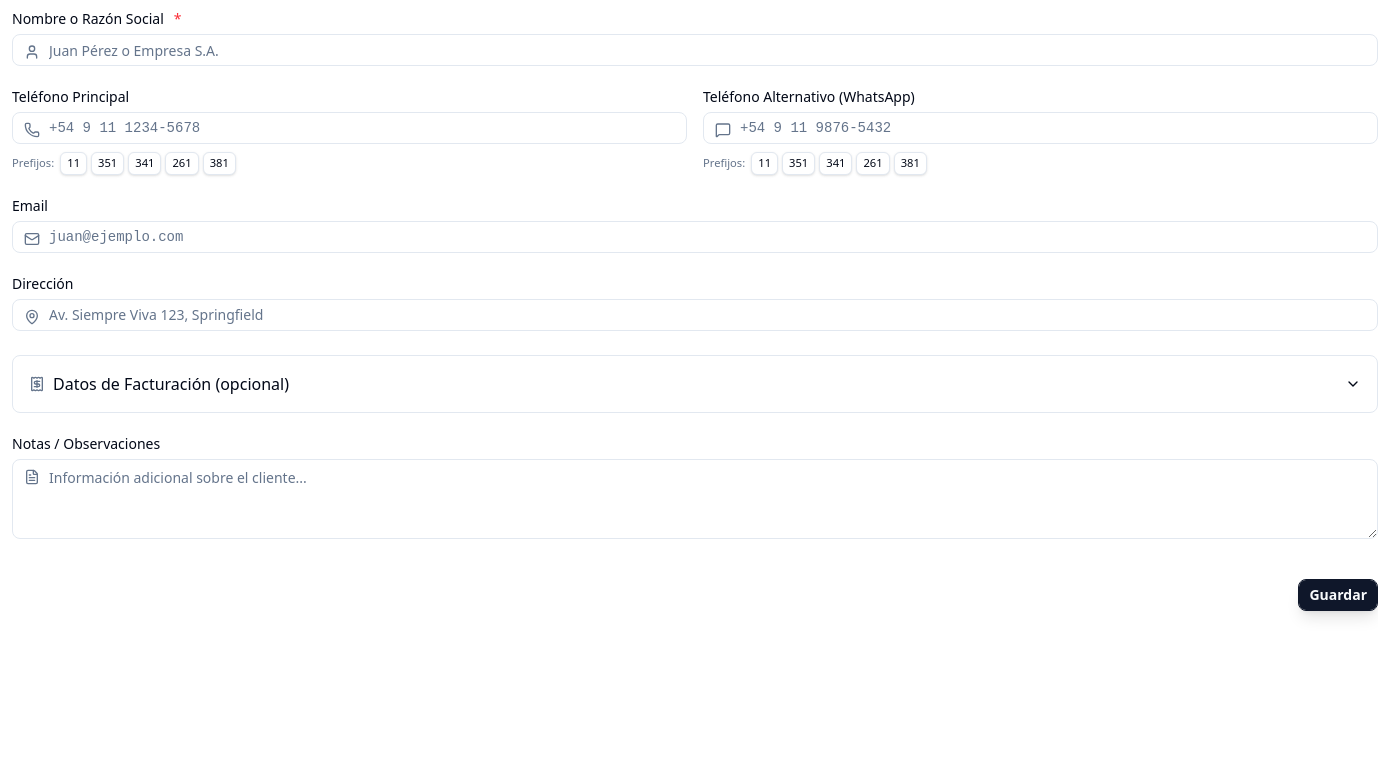
Scenario: CustomerForm › should validate CUIT on blur and show length error if less than 11 digits are filled
Click the button "Datos de Facturación (opcional)" at (171, 384), box [13,356,1377,412]
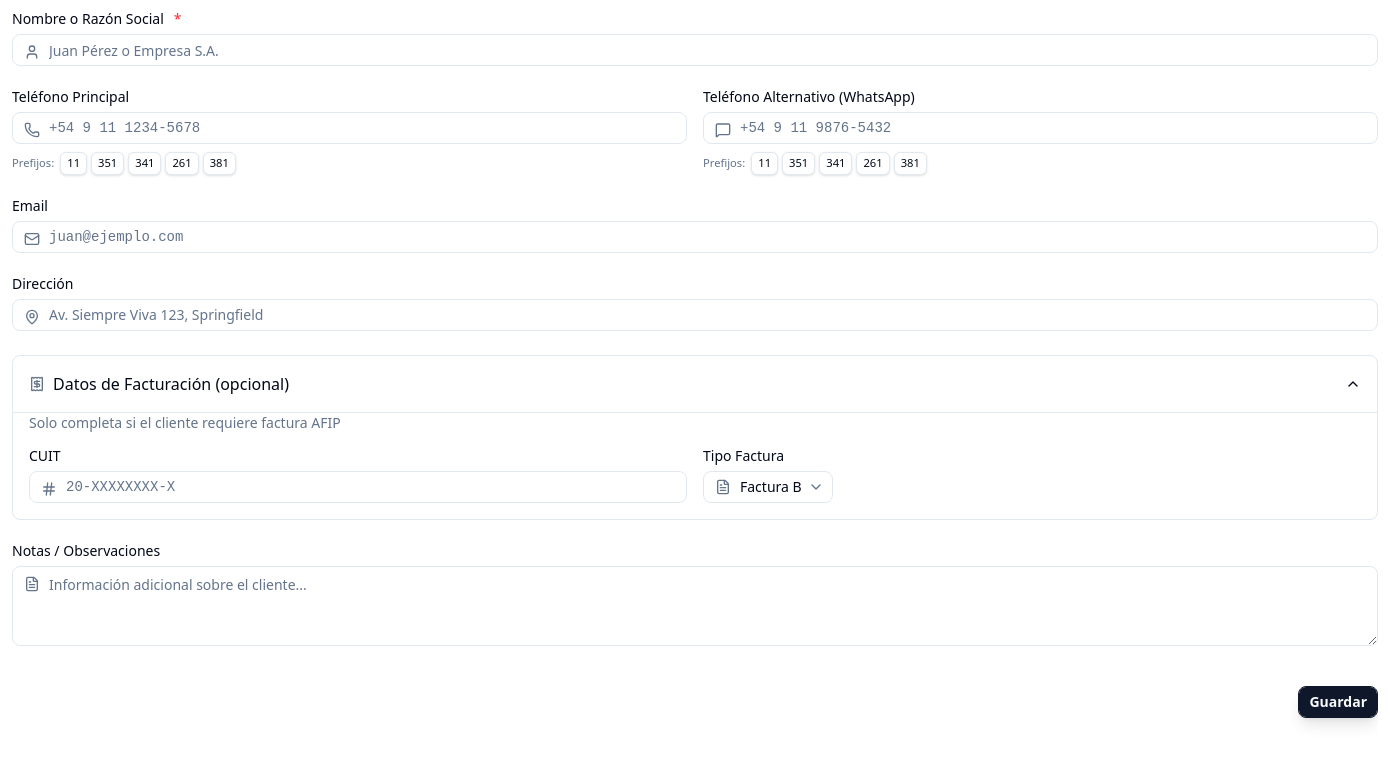
Type "201234" into the field with placeholder "20-XXXXXXXX-X" at (358, 487), box [29,471,687,503]
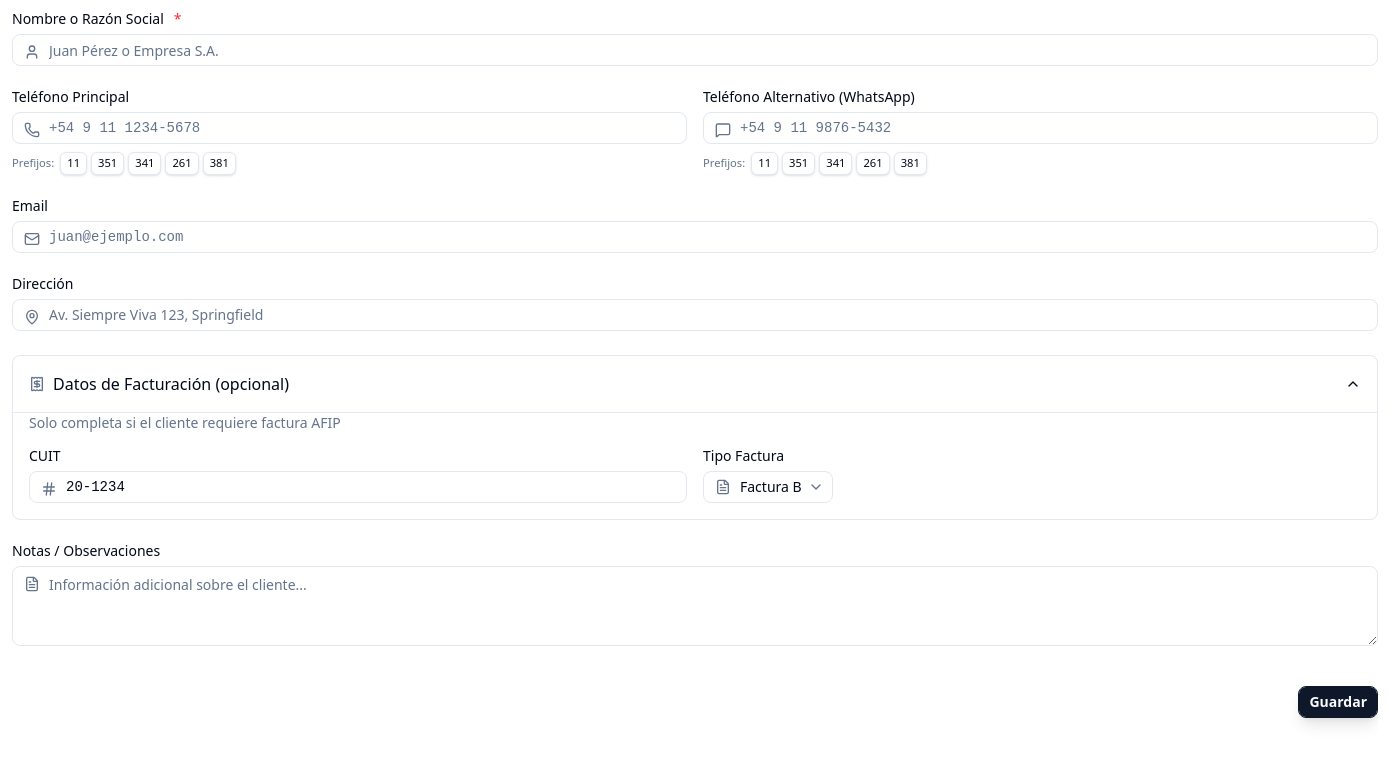
Expected: the text "El CUIT debe tener 11 dígitos" is not shown
Note: Trigger blur
Leave the field with placeholder "20-XXXXXXXX-X", box [29,471,687,503]
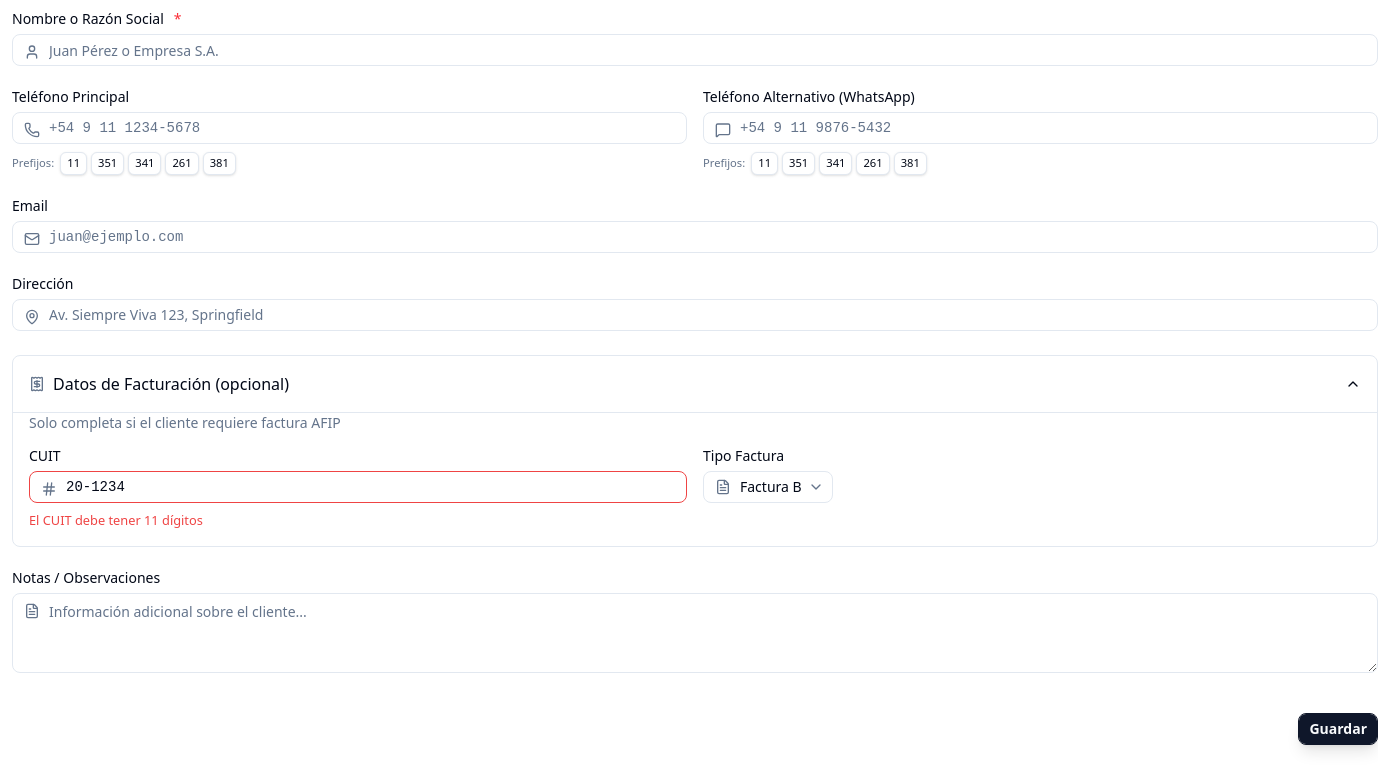
Result: the text "El CUIT debe tener 11 dígitos" is shown at [29,511,203,529]
